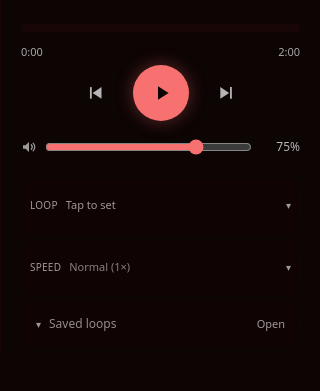
Scenario: SavedLoopsPanelSection toggle › shows Open when collapsed and Close when expanded
The width and height of the screenshot is (320, 391).
expect the text "Open" is shown: met, box [257,316,285,332]
Click the button with aria-label "open saved loops" at (83, 323), box [22,304,299,344]
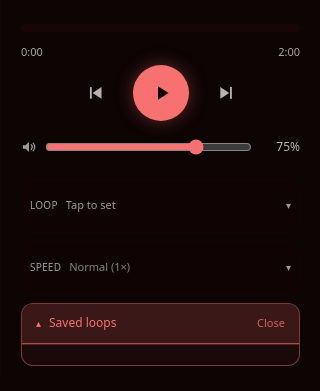
expect the button with aria-label "close saved loops" is expanded: met
expect the text "Close" is shown: met, box [257,315,285,331]
expect the element with id "saved-loops-panel-content" is shown: met, box [22,344,299,364]
Click the button with aria-label "close saved loops" at (83, 322), box [22,304,299,344]
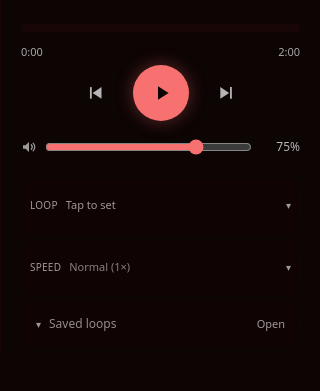
expect the button with aria-label "open saved loops" is collapsed: met, box [22,304,299,344]
